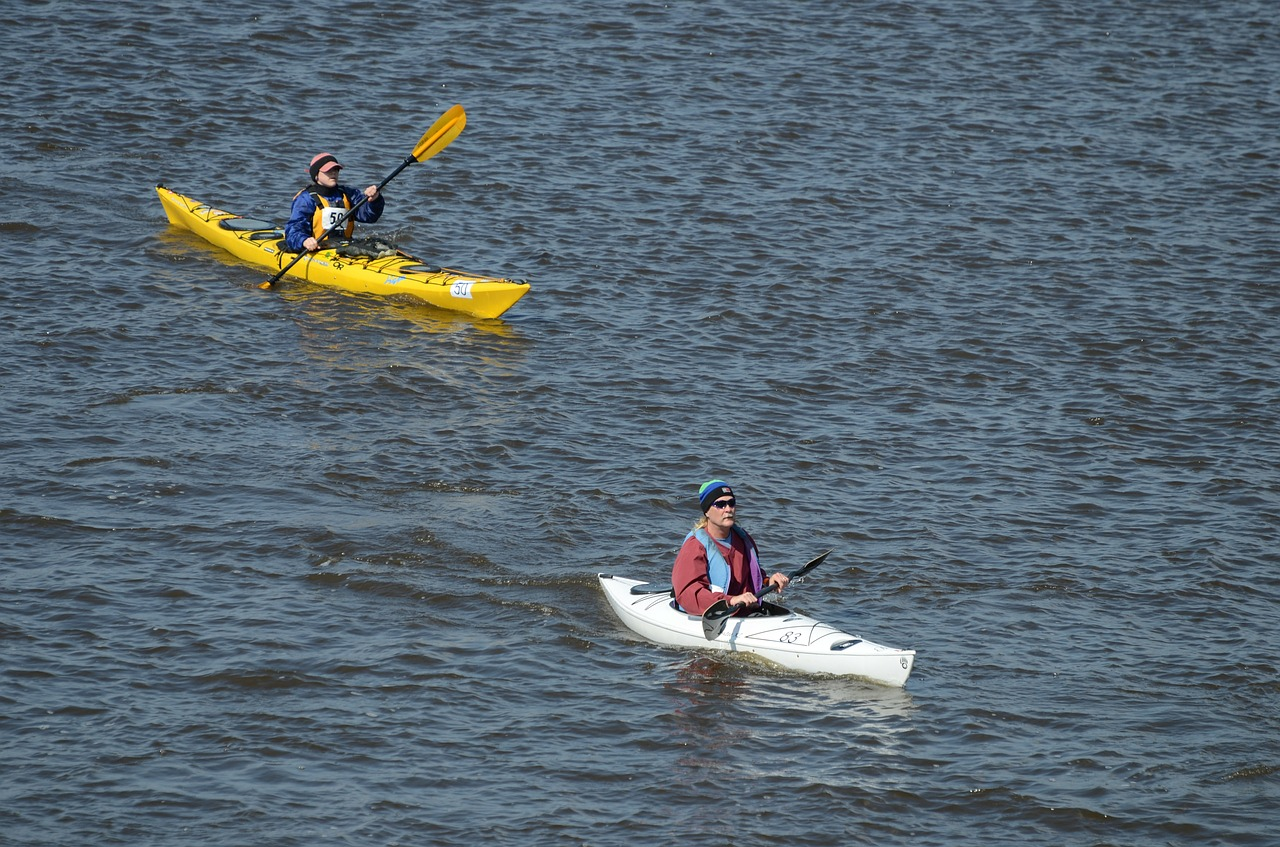kayak: (150, 179, 535, 322), (593, 567, 919, 686)
